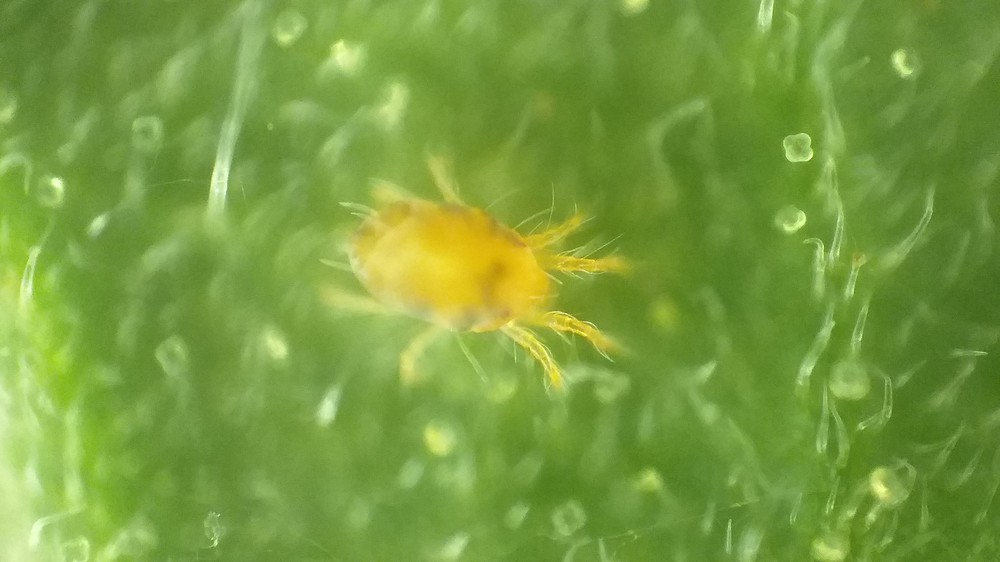Aracnido Rojo: (303, 150, 662, 409)
